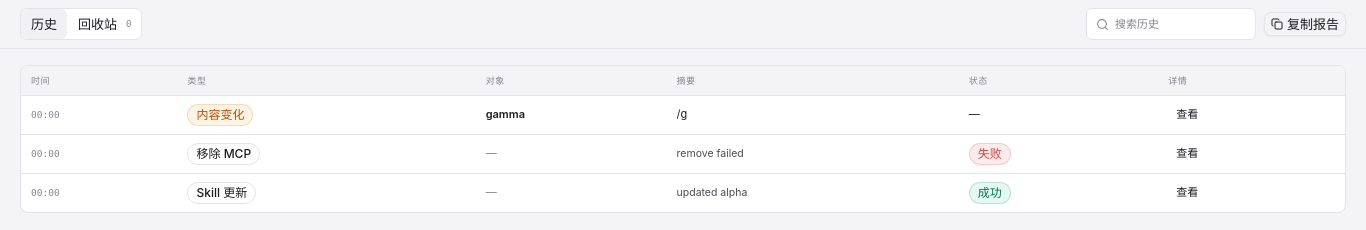
shows operations and external changes in one searchable feed
The image size is (1366, 230).
Expected: the text "updated alpha" is shown, top-left (677, 186), bottom-right (747, 199)
Expected: the text "gamma" is shown, top-left (486, 107), bottom-right (525, 121)
Step 1. Type "remove failed" into the field labelled "搜索历史" → (1180, 24), box top-left (1115, 9), bottom-right (1246, 39)
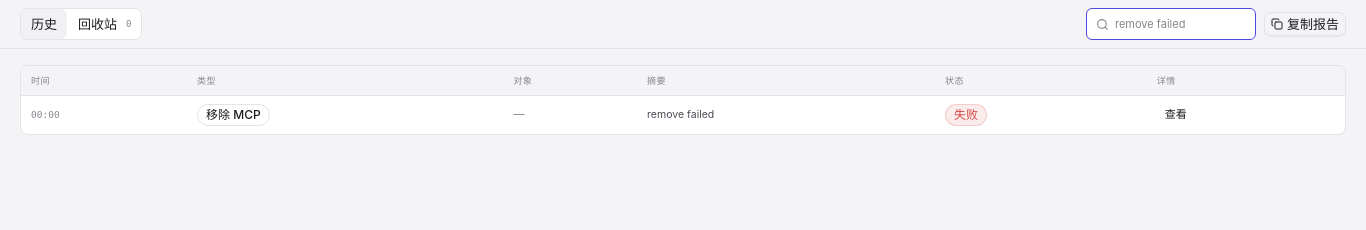
Expected: the text "remove failed" is shown, top-left (647, 108), bottom-right (714, 121)
Result: the text "updated alpha" is gone
